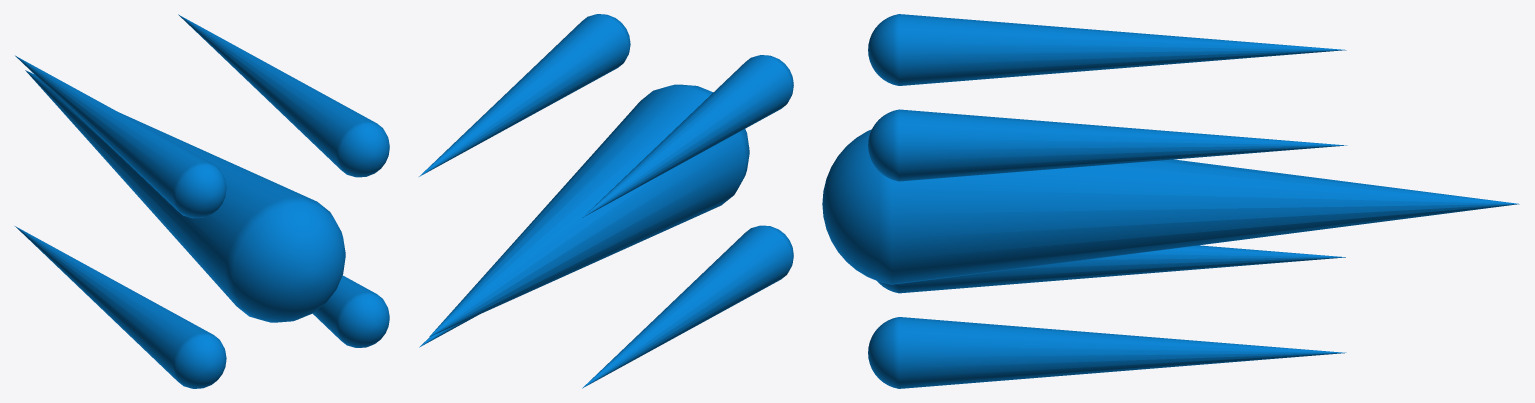
File: SM_Orb_Shotgun.fbx
The picture shows the model from 3 angles, left to right: view 1: azimuth 30°, elevation 25°; view 2: azimuth 150°, elevation 25°; view 3: azimuth 270°, elevation 25°; orthographic projection. The views are drawn at different scales.
Visible parts, largest first — view 1: pSphere7; view 2: pSphere7; view 3: pSphere7.
Boxes of the visible parts, left/top/right/bottom form: pSphere7: left=15, top=14, right=389, bottom=388; pSphere7: left=419, top=14, right=793, bottom=388; pSphere7: left=822, top=14, right=1519, bottom=388.
Bounding box in the file's own units: 2.45 × 2.46 × 5.68.
